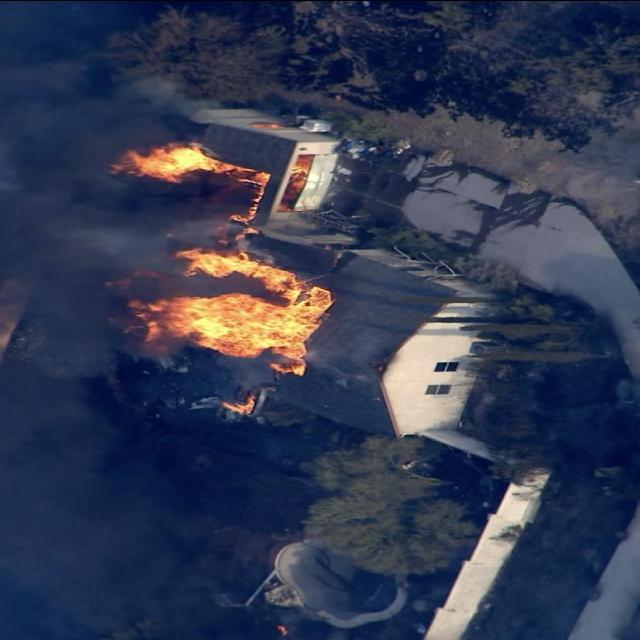Fire: (115, 287, 333, 375), (99, 140, 273, 186), (172, 247, 300, 301), (218, 398, 260, 412), (228, 205, 258, 221), (239, 226, 259, 234), (253, 188, 263, 202)
